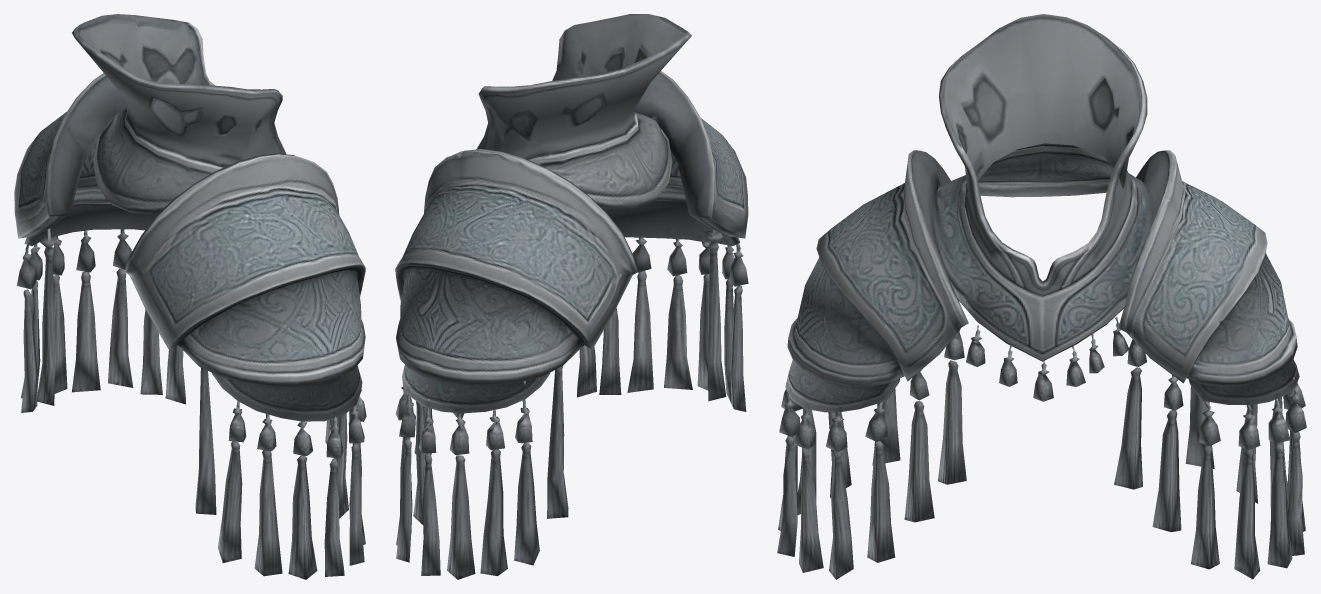
File: necro_mantle_mourner_asc.glb
3 renders of one model, left to right at view 1: azimuth 30°, elevation 25°; view 2: azimuth 150°, elevation 25°; view 3: azimuth 270°, elevation 25°, orthographic.
Visible parts, largest first — view 1: tripo_node_6cac5ebd-5762-4bc3-bdfc-699f227b810a; view 2: tripo_node_6cac5ebd-5762-4bc3-bdfc-699f227b810a; view 3: tripo_node_6cac5ebd-5762-4bc3-bdfc-699f227b810a.
Boxes of the visible parts, x1,y1,x2,y2 form: tripo_node_6cac5ebd-5762-4bc3-bdfc-699f227b810a: (14, 14, 366, 579); tripo_node_6cac5ebd-5762-4bc3-bdfc-699f227b810a: (395, 14, 748, 579); tripo_node_6cac5ebd-5762-4bc3-bdfc-699f227b810a: (777, 14, 1306, 579).
Bounding box in the file's own units: 0.4863 × 0.998 × 0.998.
Materials: 1 (1 with a texture image).
